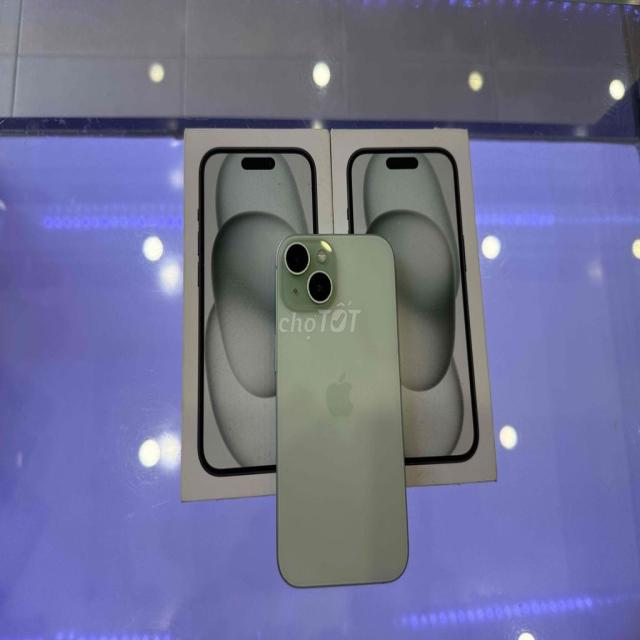gen_15: (267, 229, 413, 603)
